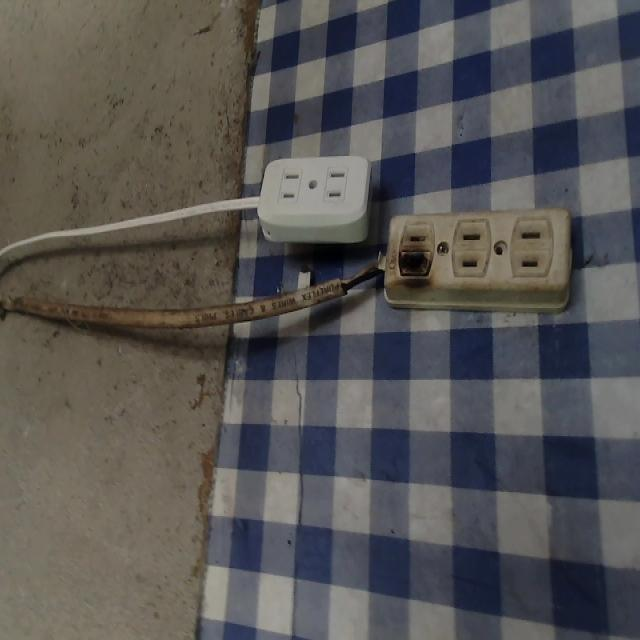-: (383, 246, 438, 286)
